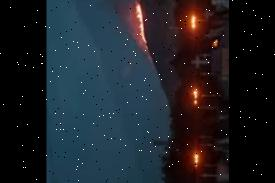fire: (125, 0, 153, 53)
